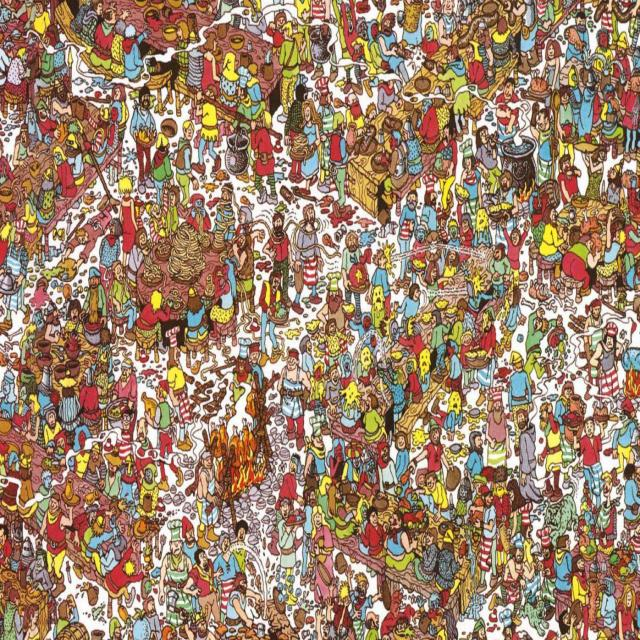waldo: (119, 402, 133, 431)
